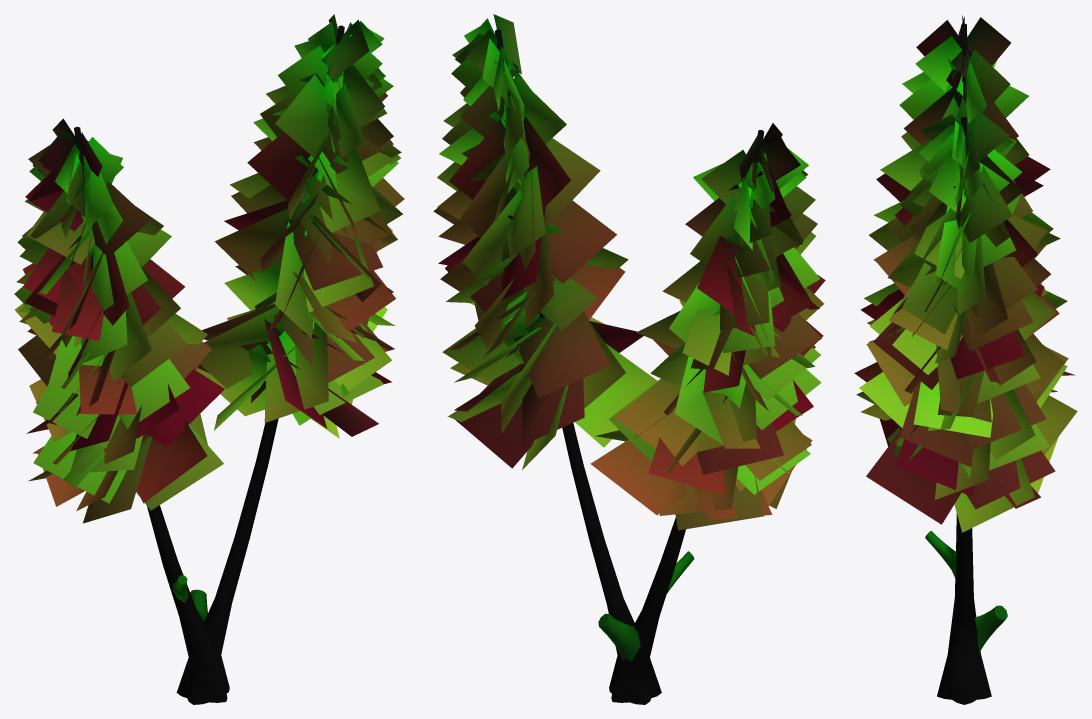
The model's file is M_Pine_2_16.fbx.
3 renders of one model, left to right at view 1: azimuth 30°, elevation 25°; view 2: azimuth 150°, elevation 25°; view 3: azimuth 270°, elevation 25°, orthographic.
Visible parts, largest first — view 1: Tree_16; view 2: Tree_16; view 3: Tree_16.
Boxes of the visible parts, x1,y1,x2,y2 form: Tree_16: (14,14,404,704); Tree_16: (433,14,825,704); Tree_16: (854,15,1077,704).
Size of the model in its own units: 1191 by 1989 by 618.
